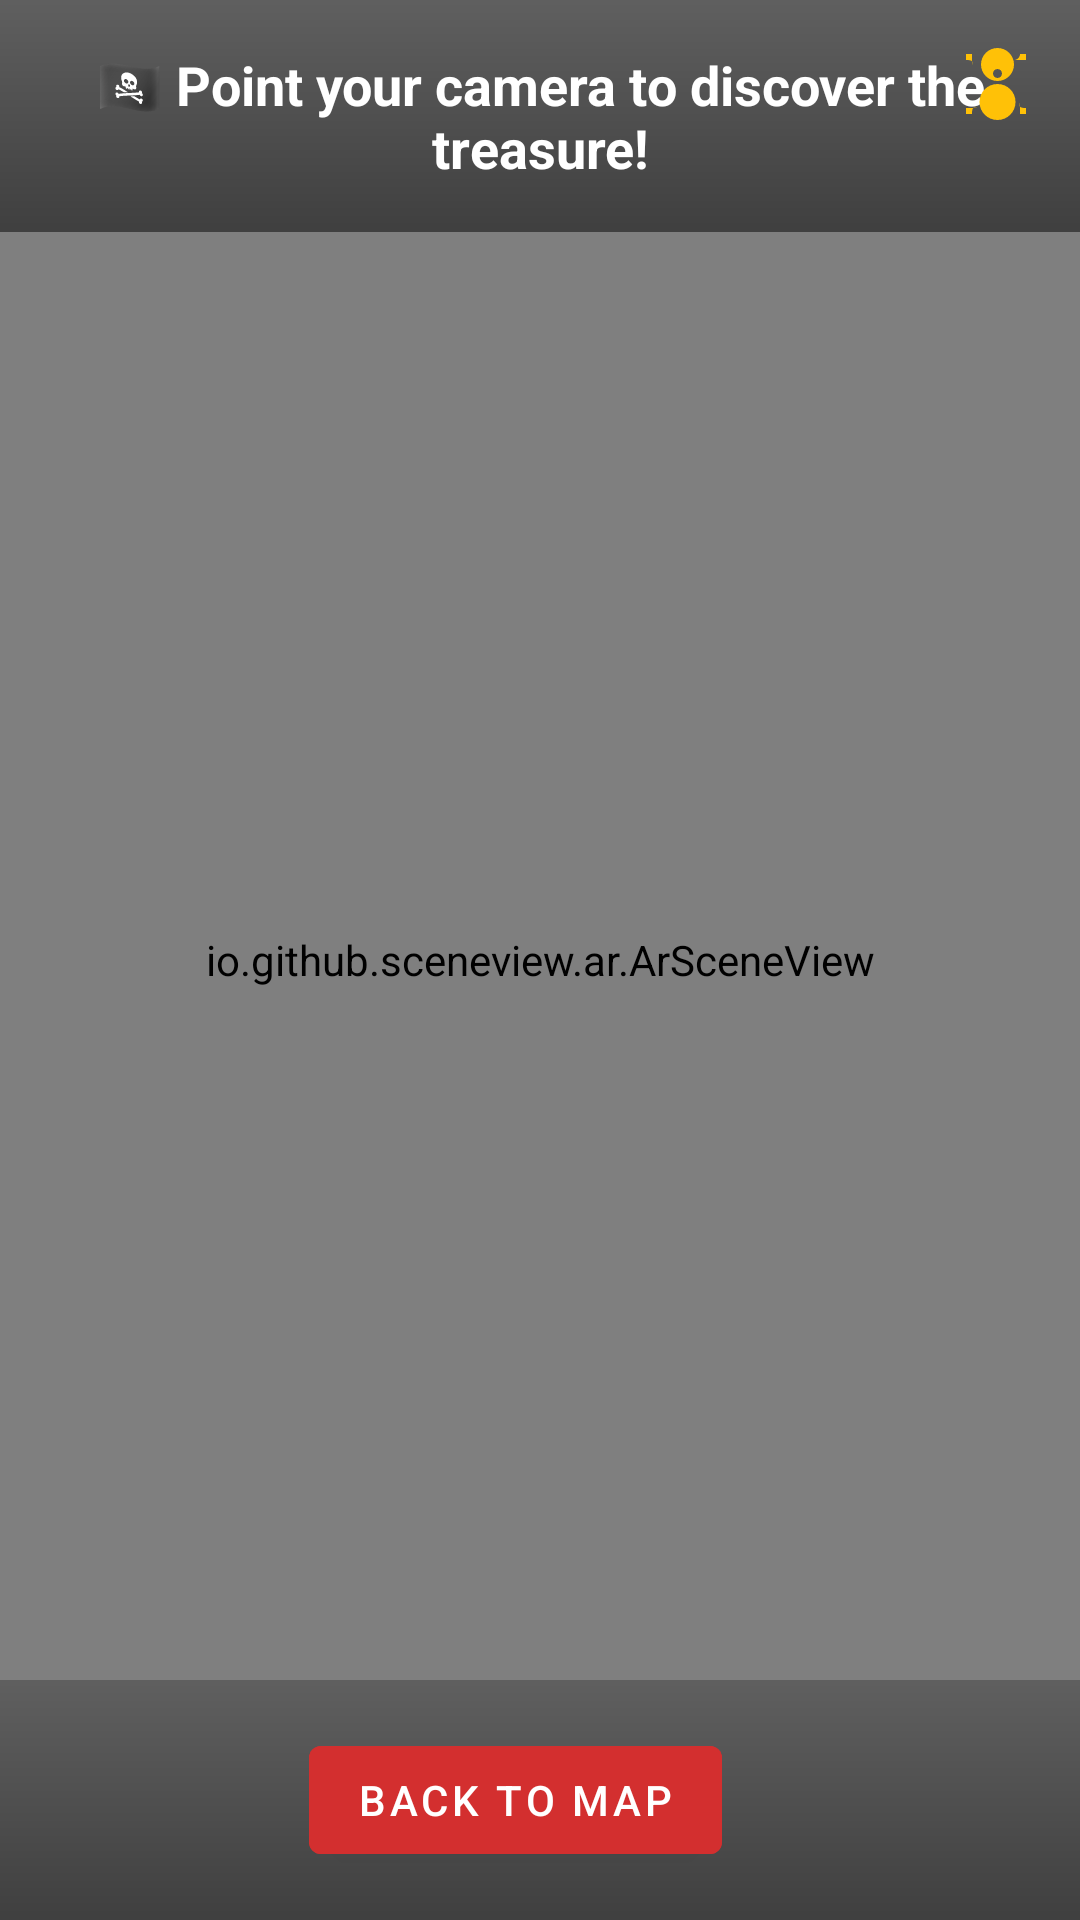

Named icons in this screenshot (1080w x 1920h) and their centers, point (x, y):
AR Status: point (993, 84)
